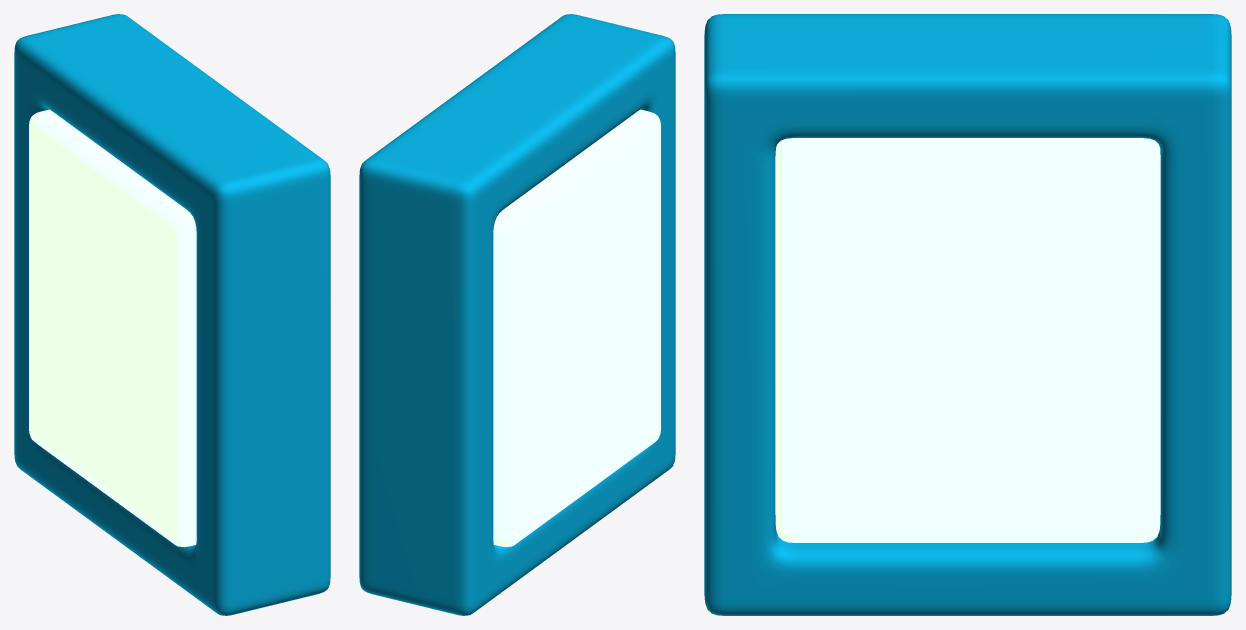
Rendered from SM_Clay_Window_07.fbx.
The picture shows the model from 3 angles, left to right: view 1: azimuth 30°, elevation 25°; view 2: azimuth 150°, elevation 25°; view 3: azimuth 270°, elevation 25°; orthographic projection. The views are drawn at different scales.
Parts seen in each view (by area): view 1: SM_Clay_Window_07; view 2: SM_Clay_Window_07; view 3: SM_Clay_Window_07.
Part boxes in pixels (x1,y1,x2,y2): SM_Clay_Window_07: (14,14,330,615); SM_Clay_Window_07: (359,14,675,615); SM_Clay_Window_07: (704,14,1231,615).
Bounding box in the file's own units: 0.258 × 0.832 × 0.7333.
